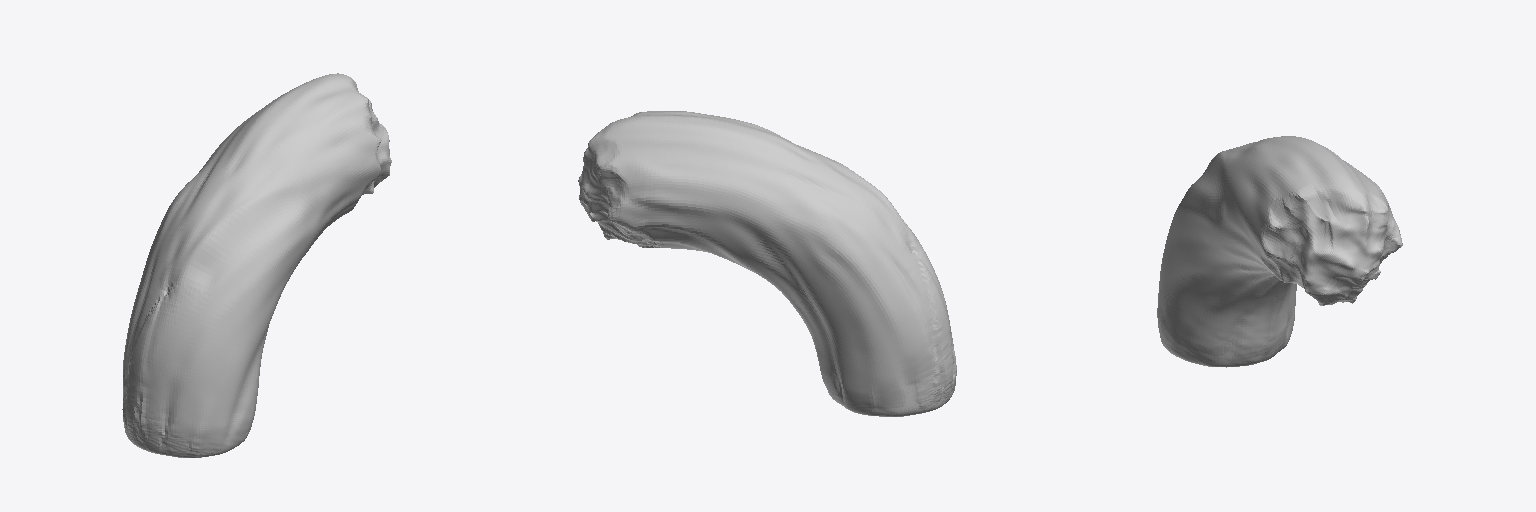
3 views of the same model, side by side, from view 1: azimuth 30°, elevation 25°; view 2: azimuth 150°, elevation 25°; view 3: azimuth 270°, elevation 25° (orthographic).
Visible parts, largest first — view 1: ZBrush_defualt_group; view 2: ZBrush_defualt_group; view 3: ZBrush_defualt_group.
Boxes of the visible parts, <box> form: ZBrush_defualt_group: <box>122,73,391,457</box>; ZBrush_defualt_group: <box>578,111,956,416</box>; ZBrush_defualt_group: <box>1157,136,1402,367</box>.
Bounding box in the file's own units: 51.79 × 43.36 × 35.7.